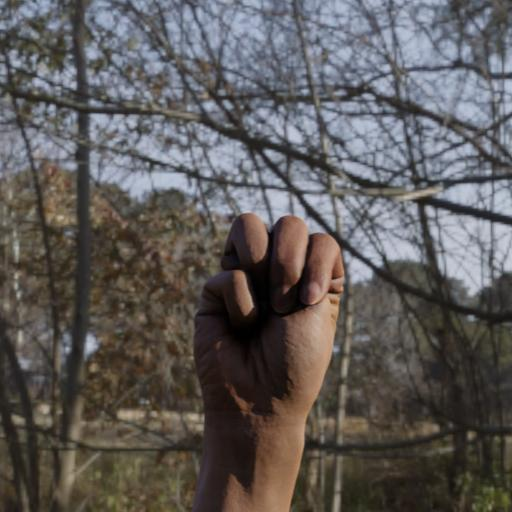M: (174, 205, 352, 463)
